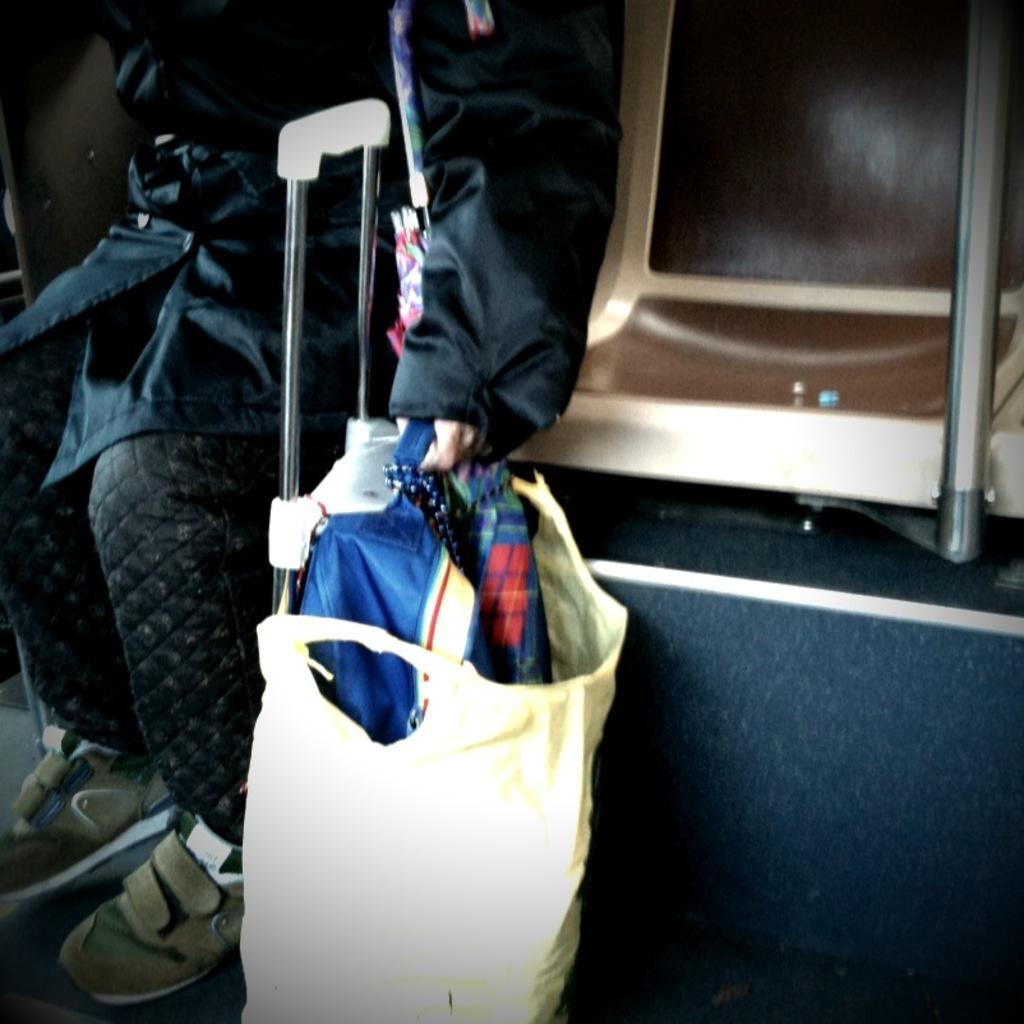Luggage-and-bags: (234, 414, 632, 1023)
